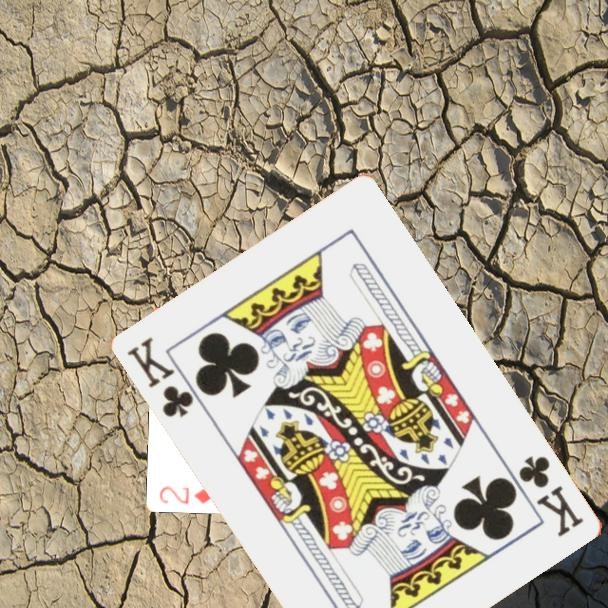c13: (123, 333, 198, 421), (515, 452, 587, 540)
d02: (156, 482, 216, 507)
